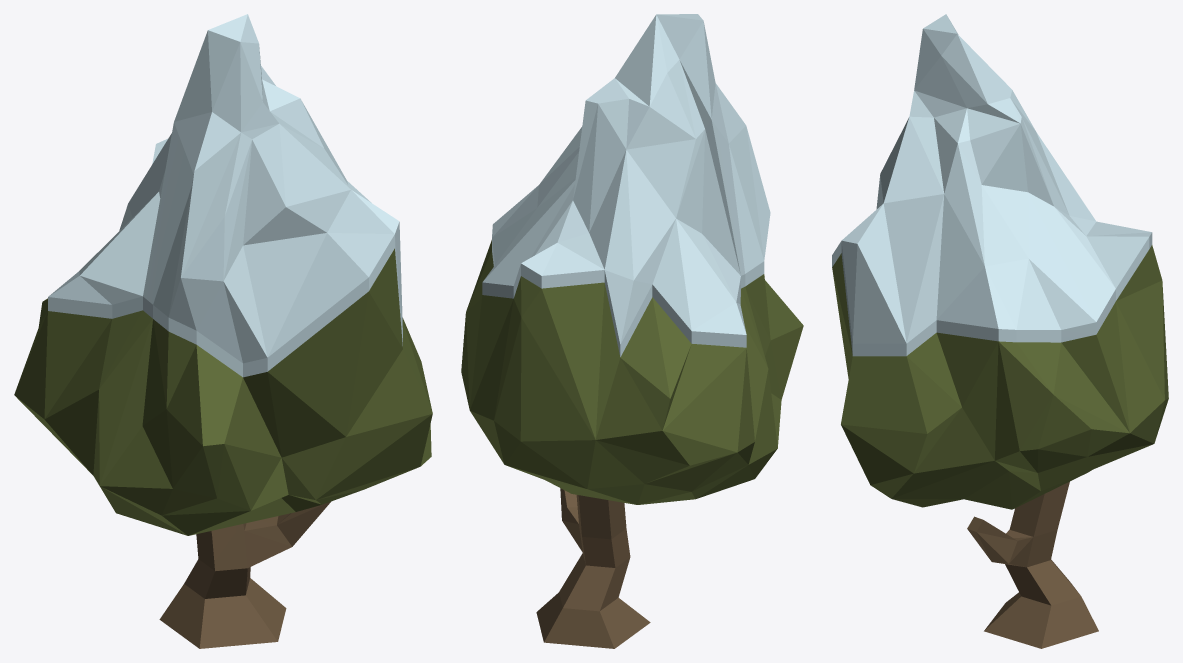
The model's file is SM_Env_Tree_03_Snow.glb.
3 views of the same model, side by side, from view 1: azimuth 30°, elevation 25°; view 2: azimuth 150°, elevation 25°; view 3: azimuth 270°, elevation 25° (orthographic). The views are drawn at different scales.
Parts seen in each view (by area): view 1: SM_Env_Tree_03_Snow; view 2: SM_Env_Tree_03_Snow; view 3: SM_Env_Tree_03_Snow.
Part boxes in pixels (left/top/right/bottom): SM_Env_Tree_03_Snow: left=14, top=14, right=432, bottom=648; SM_Env_Tree_03_Snow: left=461, top=14, right=803, bottom=648; SM_Env_Tree_03_Snow: left=832, top=14, right=1168, bottom=648.
Size of the model in its own units: 1.55 by 3.01 by 1.59.
1 material, 1 textured.
